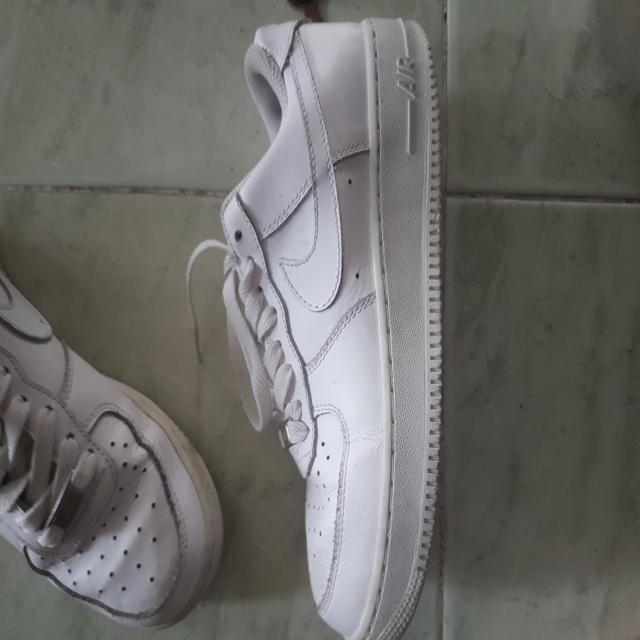nike original air force: (0, 306, 470, 589), (4, 2, 354, 308)
